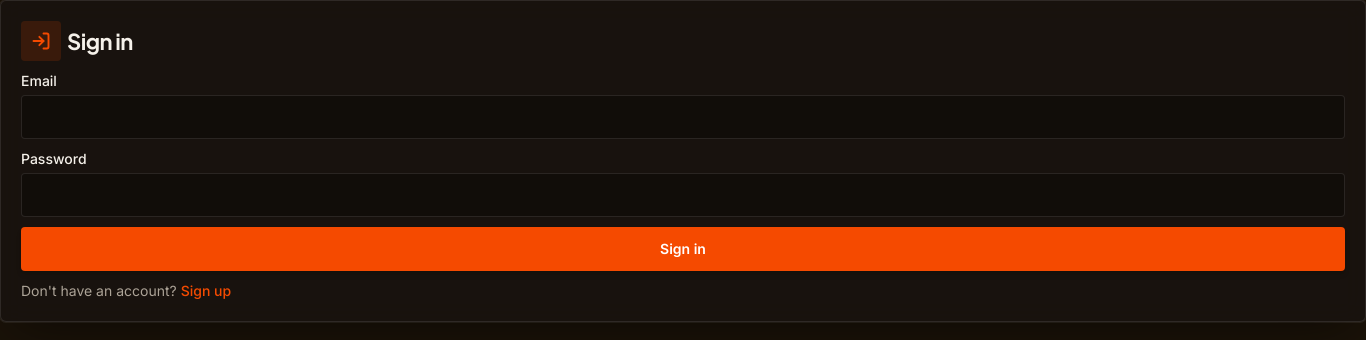
SignInForm › shows a loading state and signs in
The image size is (1366, 340).
Type "user@example.com" into the field labelled "Email". click: (683, 117)
box: [21,95,1345,139]
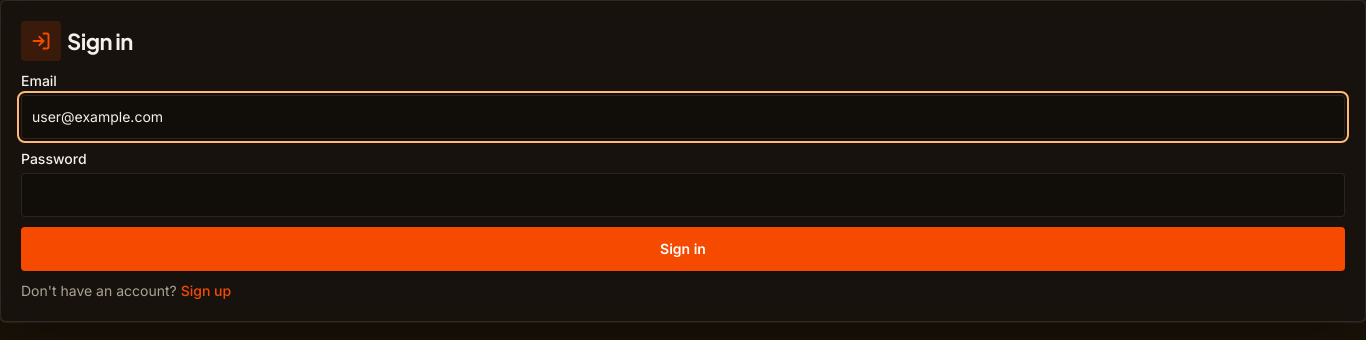
Type "StrongPassword123!" into the password field labelled "Password". click: (683, 195)
box: [21,173,1345,217]
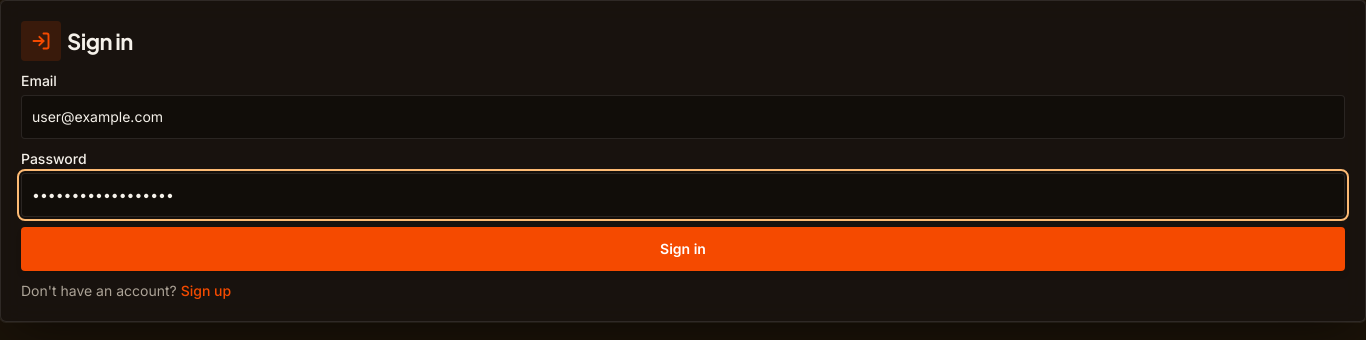
Click the button "Sign in". click: (683, 249)
box: [21,227,1345,271]
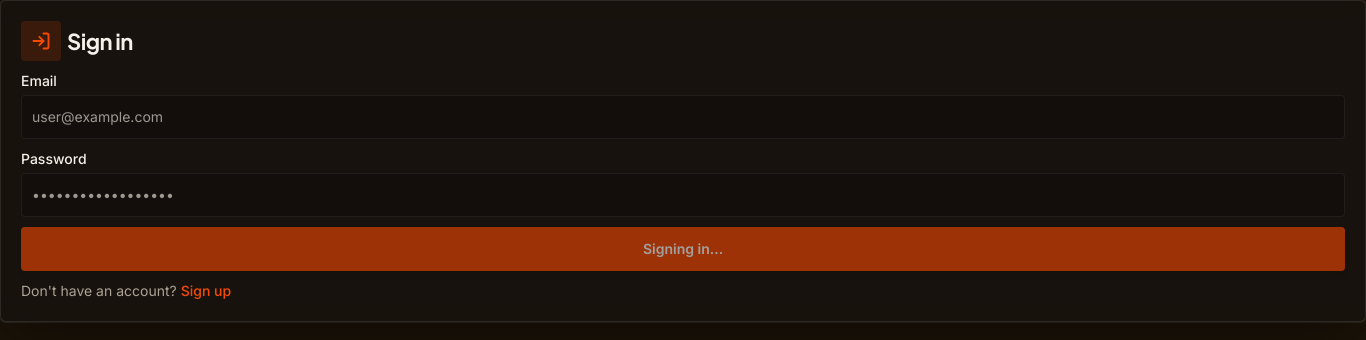
Expected: the button "Signing in..." is disabled, [21,227,1345,271]
